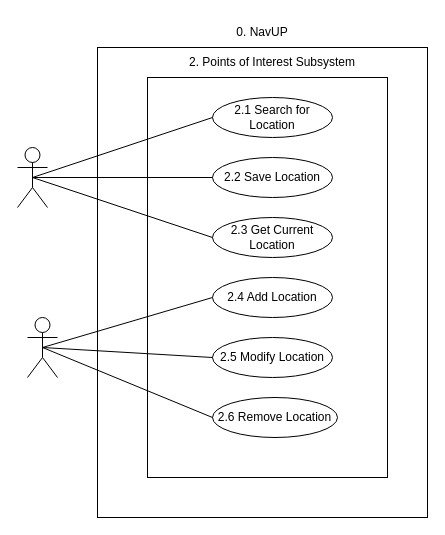
Image size: 445x535. Some labels were removed from this diagram. The centre of each missing label's shape, as x and y in pixels:
"Admin" goes at (x=42, y=347).
"User" goes at (x=32, y=177).
